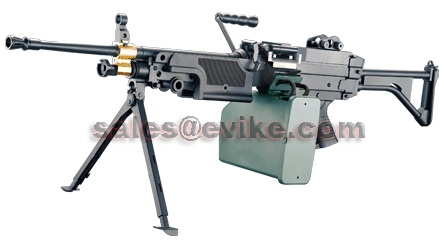rifle: (6, 8, 434, 231)
